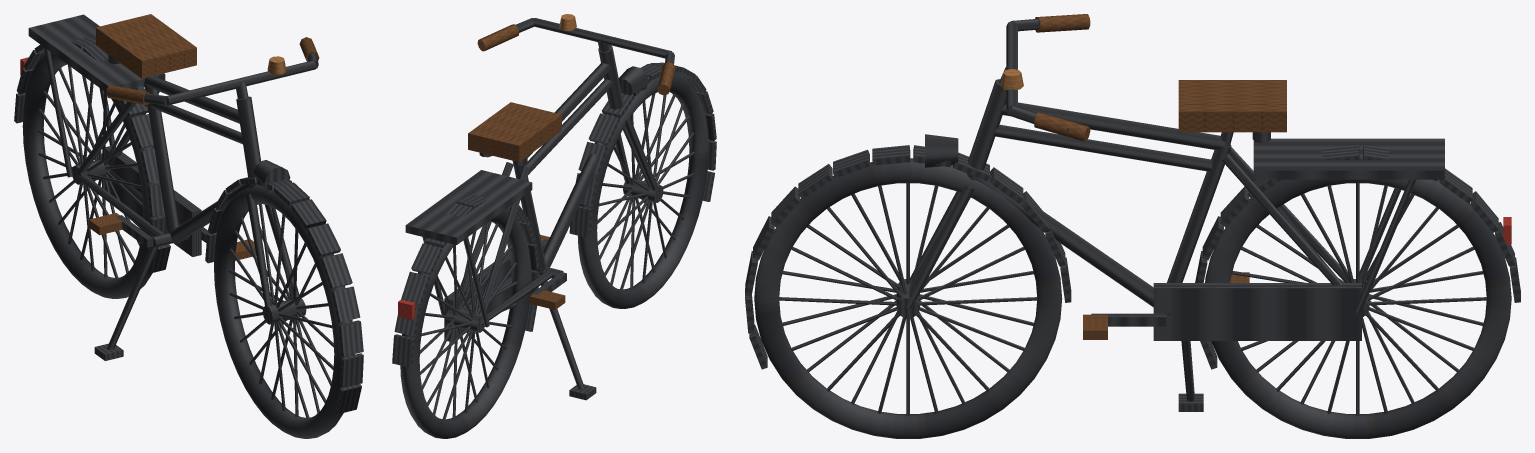
Rendered from basikal_tua.glb.
3 views of the same model, side by side, from view 1: azimuth 30°, elevation 25°; view 2: azimuth 150°, elevation 25°; view 3: azimuth 270°, elevation 25° (orthographic). The views are drawn at different scales.
Visible parts, largest first — view 1: Basikal_Tua; view 2: Basikal_Tua; view 3: Basikal_Tua.
Boxes of the visible parts, x1=… form: Basikal_Tua: x1=14, y1=14, x2=363, y2=438; Basikal_Tua: x1=392, y1=14, x2=716, y2=438; Basikal_Tua: x1=745, y1=14, x2=1520, y2=438.
Size of the model in its own units: 0.6769 by 1.02 by 1.86.
1 material, 1 textured.
